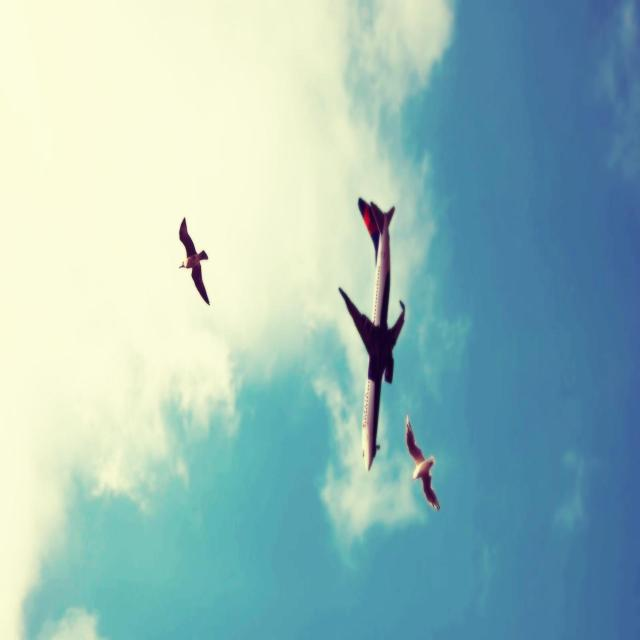airplane: (338, 196, 405, 471)
